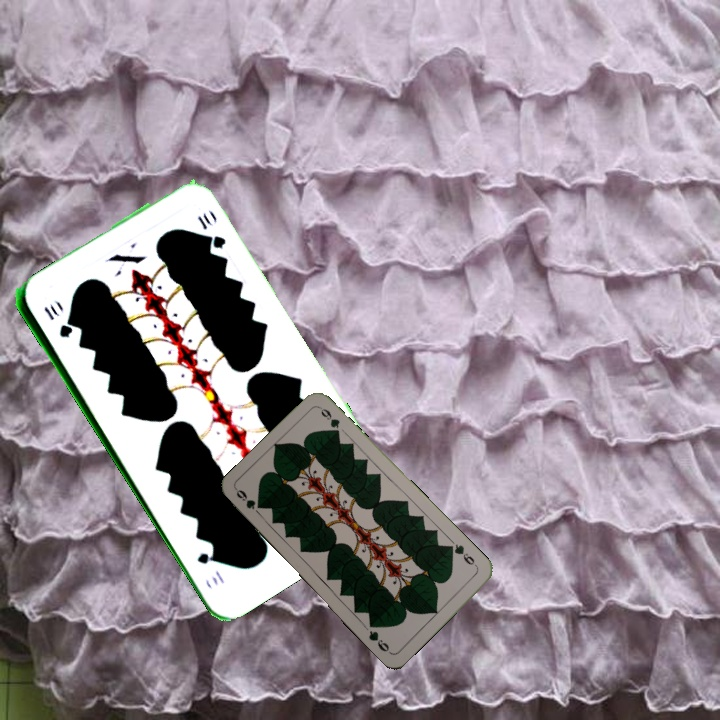G10: (40, 300, 73, 341)
G9: (445, 540, 480, 570), (232, 486, 258, 512)
